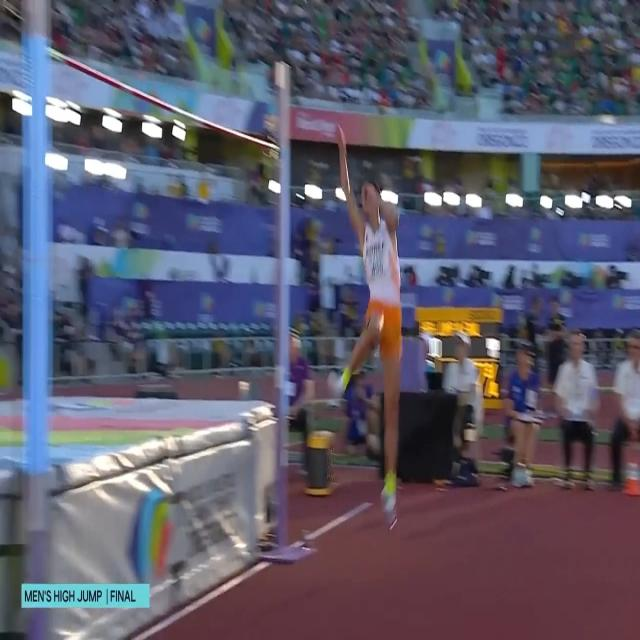jump: (327, 123, 402, 532)
